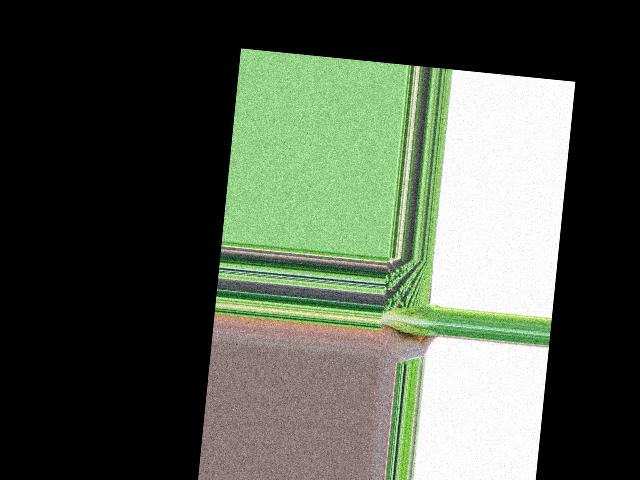lettuce: (379, 300, 439, 336)
